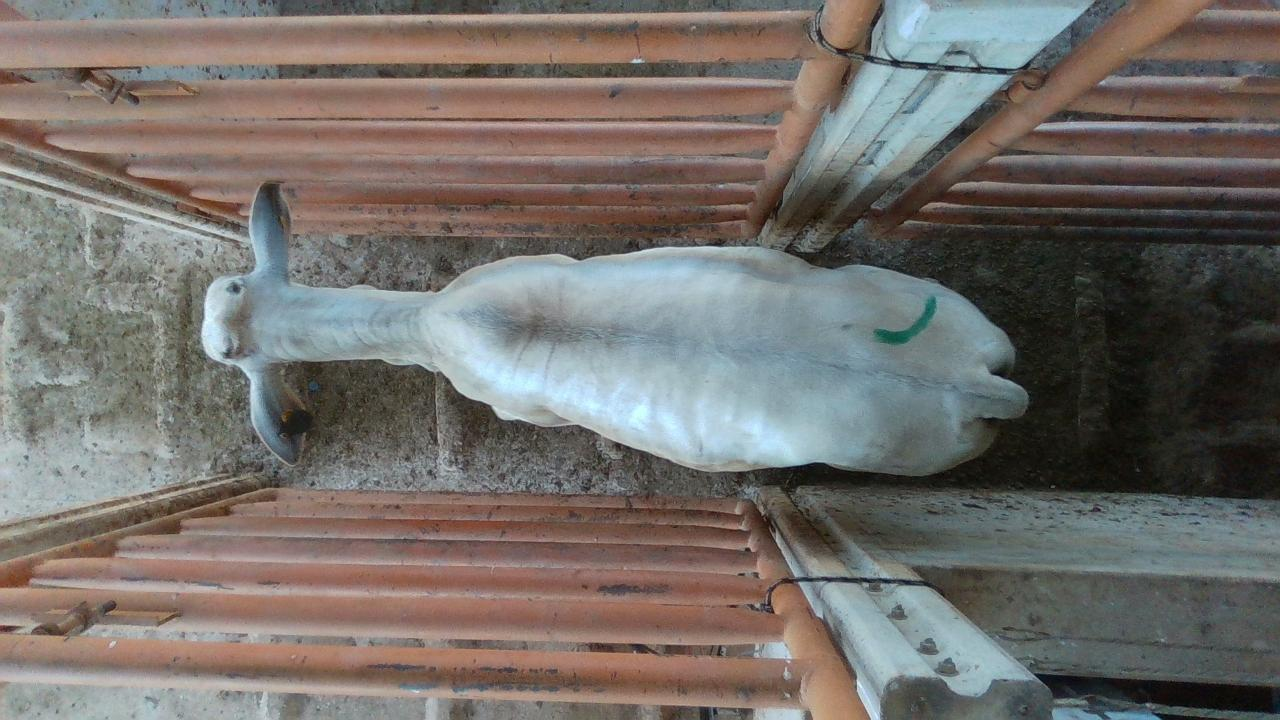cattle: (199, 178, 1030, 477)
